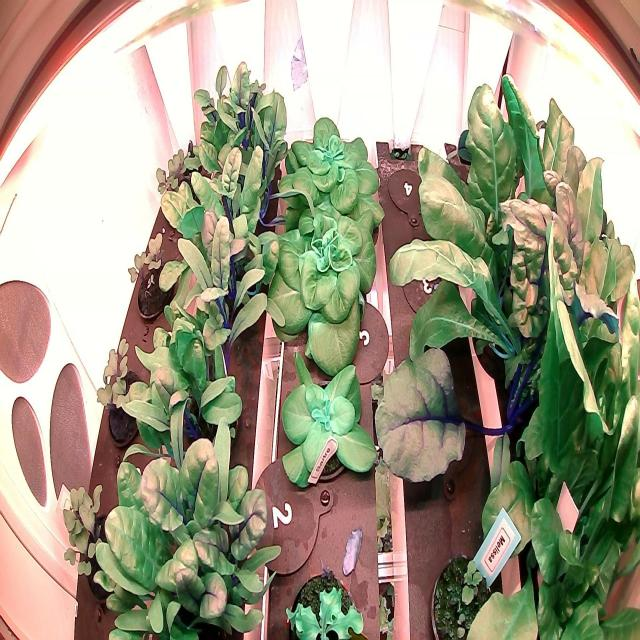empty_pod: (393, 234, 456, 325), (383, 156, 436, 229)
young: (256, 201, 388, 376), (266, 110, 398, 252), (274, 343, 383, 496)
